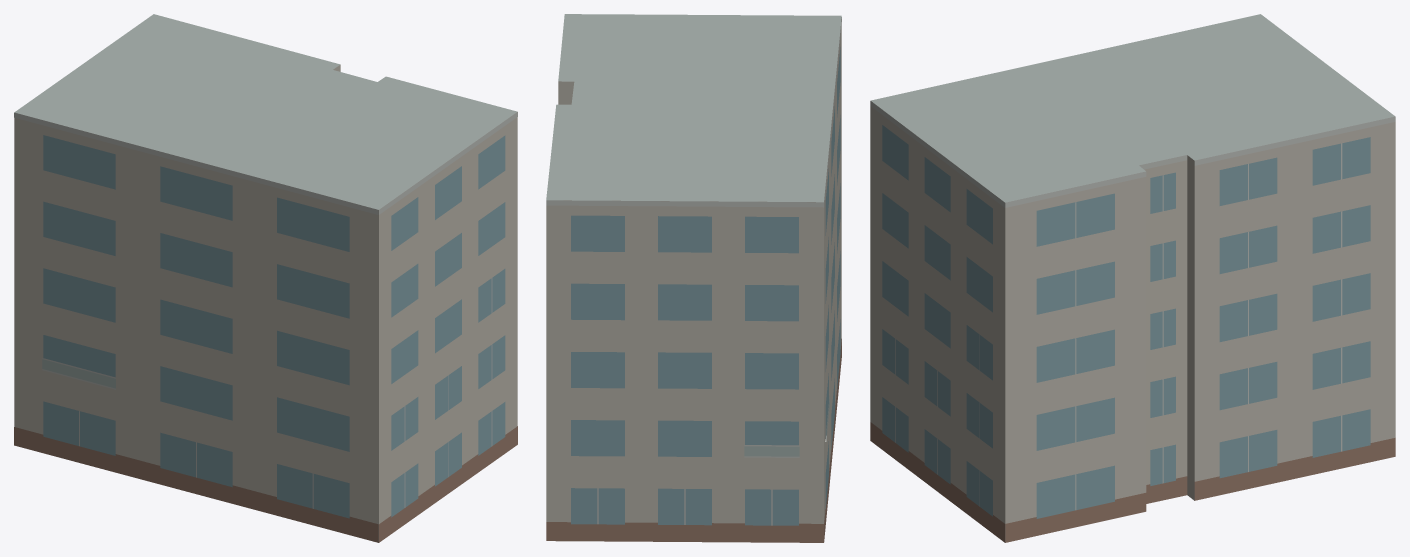
The model's file is survey-upis-32921332.glb.
The picture shows the model from 3 angles, left to right: view 1: azimuth 30°, elevation 25°; view 2: azimuth 150°, elevation 25°; view 3: azimuth 270°, elevation 25°; orthographic projection. The views are drawn at different scales.
Visible parts, largest first — view 1: survey-upis-32921332.tmp; view 2: survey-upis-32921332.tmp; view 3: survey-upis-32921332.tmp.
Boxes of the visible parts, x1,y1,x2,y2 form: survey-upis-32921332.tmp: (14,14,517,542); survey-upis-32921332.tmp: (546,14,841,542); survey-upis-32921332.tmp: (870,14,1395,542).
Size of the model in its own units: 18.63 by 15.65 by 21.9.
